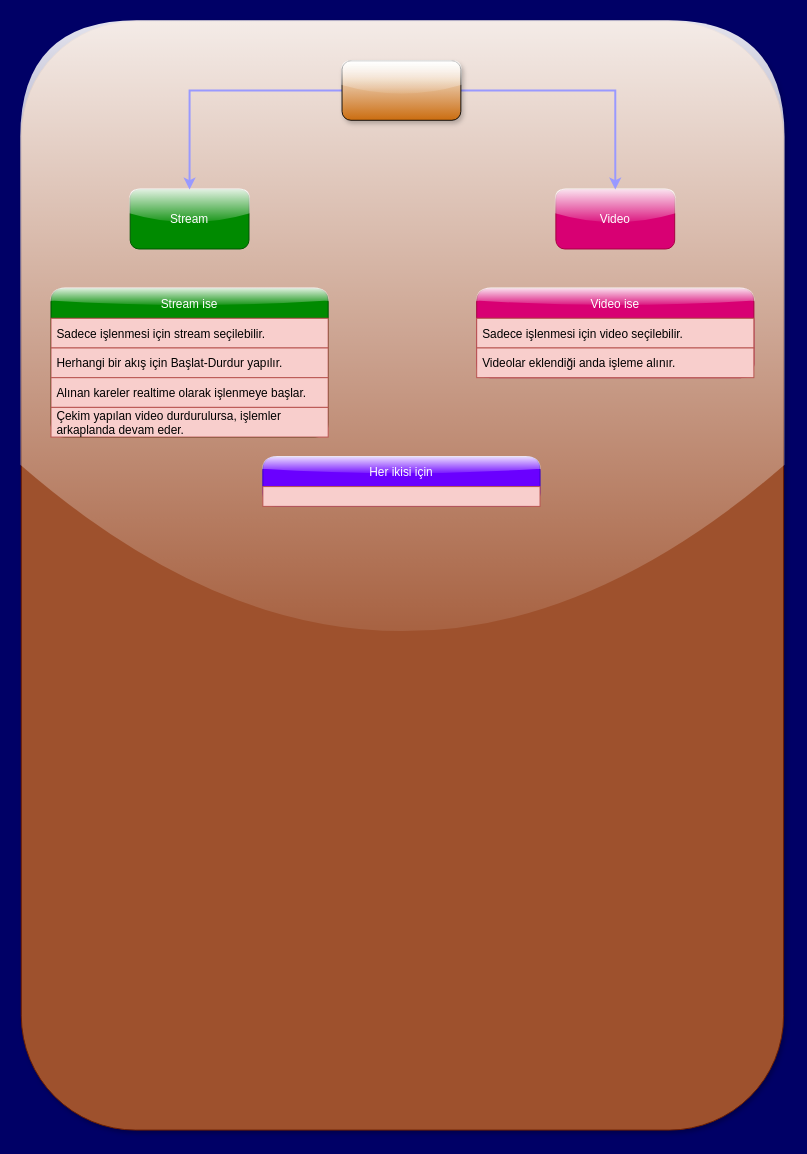
This 807x1154 diagram has some shape labels left out. The shapes that lost their labels are listed below. From the top down, each one's centre as x and y in pixels, then its label:
point (402, 91): Create Session
point (401, 496): Videolardaki kamera açısı aynı olmak zorundadır.
